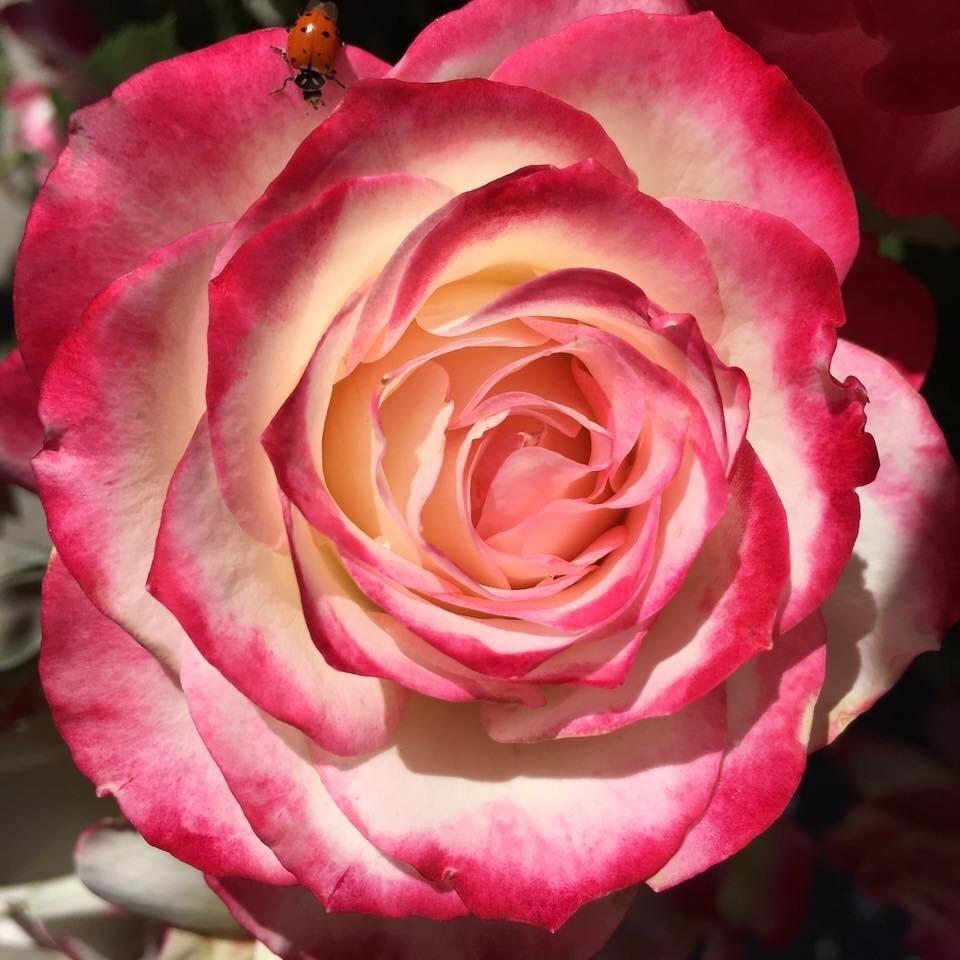ladybug: (265, 1, 355, 115)
